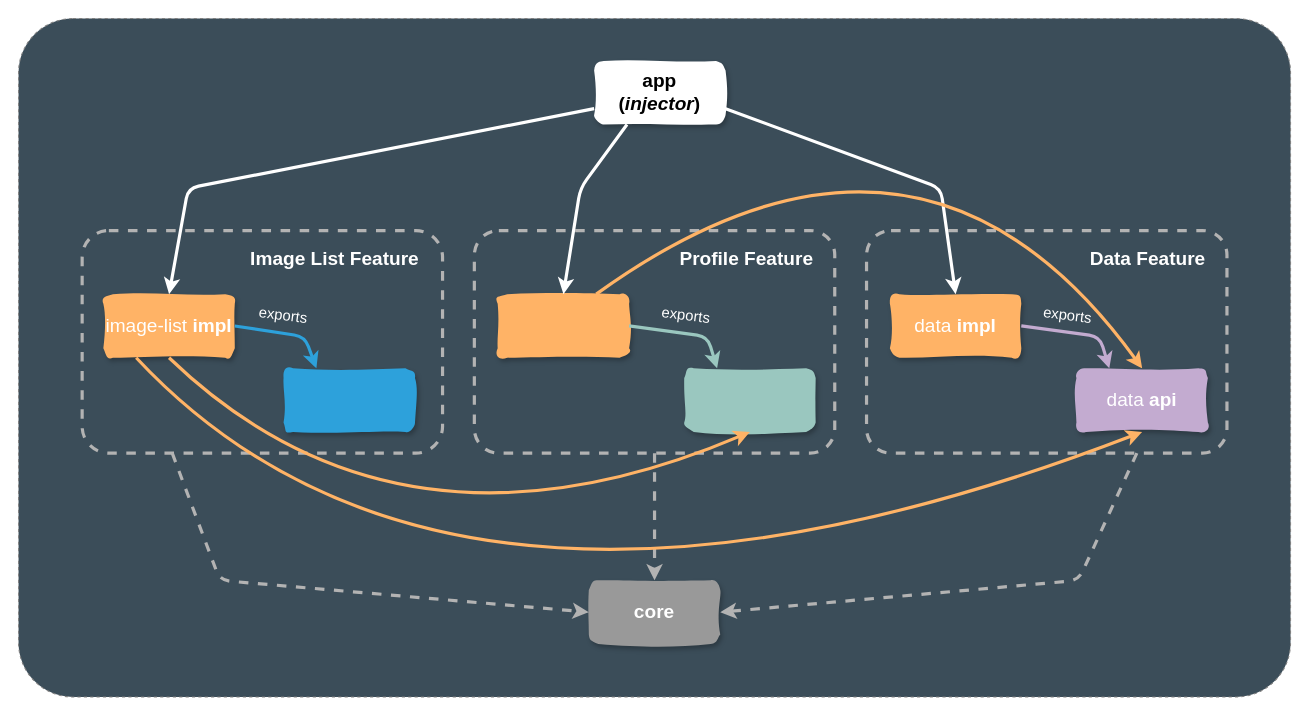
This 1309x715 diagram has some shape labels left out. The shapes that lost their labels are listed below. From the top down, each one's centre as x and y in pixels, then its label:
At point 564,327: "profile impl".
At point 350,401: "image-list api".
At point 750,401: "profile api".
